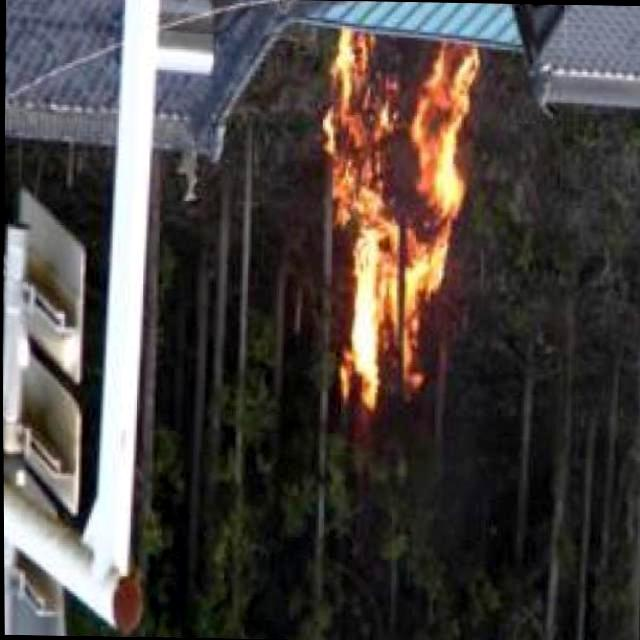fire: (314, 29, 478, 399)
